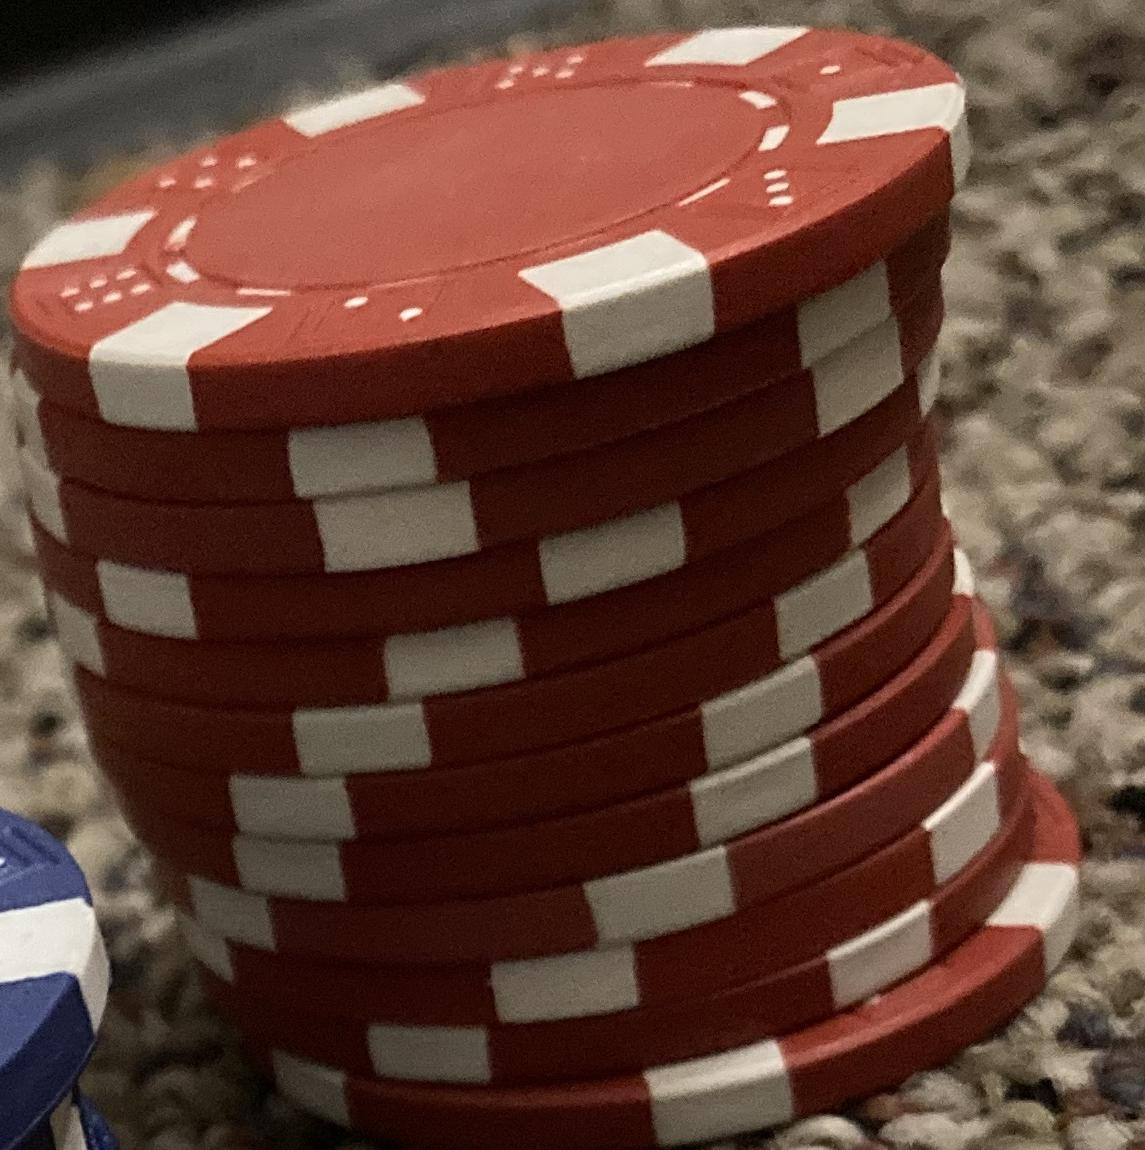Chip: (1, 1, 1145, 1150)
